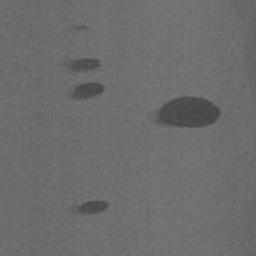Oil spot: (146, 95, 223, 131), (58, 56, 102, 76), (64, 81, 106, 101), (67, 198, 111, 216), (63, 23, 87, 38)
